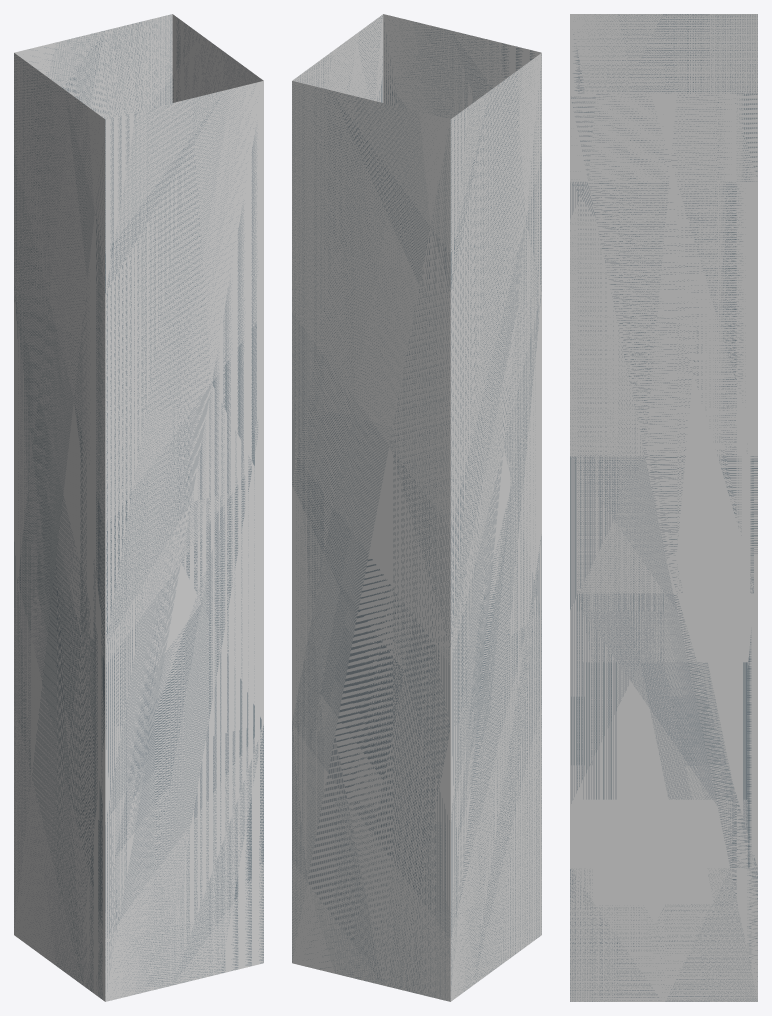
Rendered from Column_ds_075x075x4.dae.
3 renders of one model, left to right at view 1: azimuth 30°, elevation 25°; view 2: azimuth 150°, elevation 25°; view 3: azimuth 270°, elevation 25°, orthographic. The views are drawn at different scales.
Visible parts, largest first — view 1: group_0; view 2: group_0; view 3: group_0.
Part boxes in pixels (x1,y1,x2,y2): group_0: [14, 14, 263, 1001]; group_0: [292, 14, 541, 1001]; group_0: [570, 14, 757, 1001].
Bounding box in the file's own units: 29.61 × 29.53 × 157.
